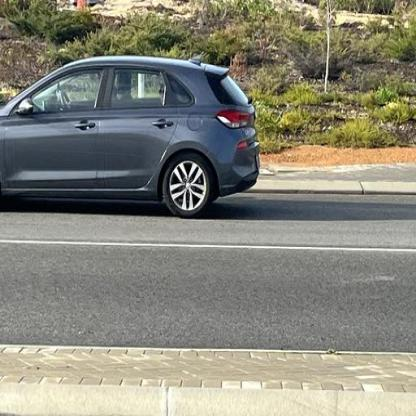Tire: (162, 152, 214, 220)
